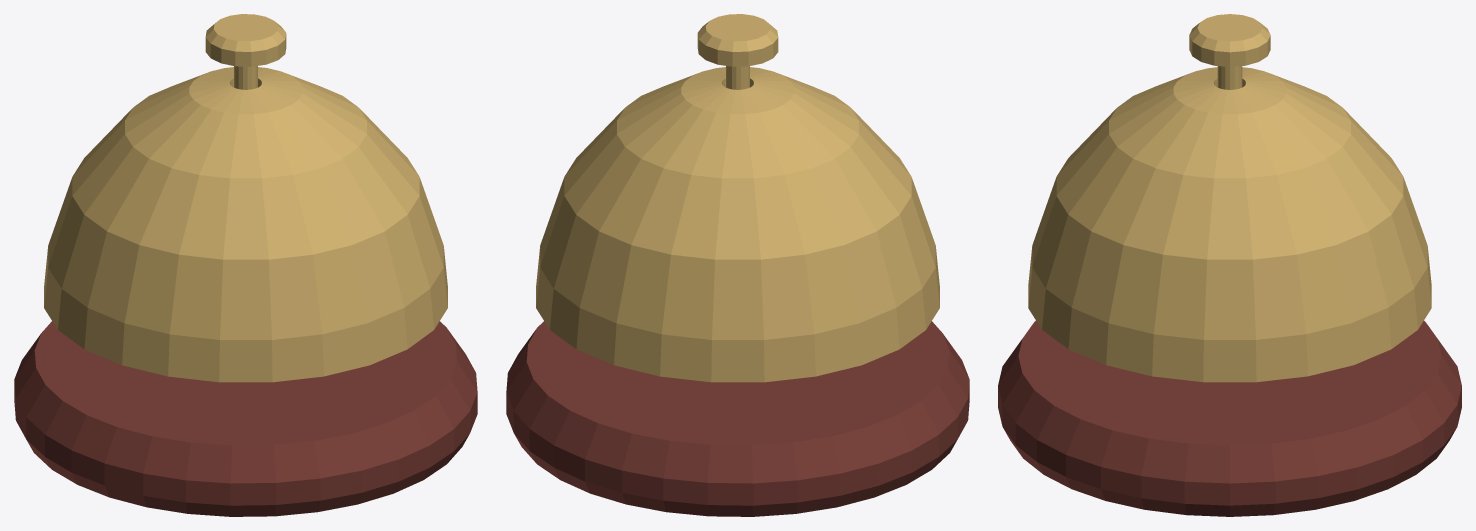
The picture shows the model from 3 angles, left to right: view 1: azimuth 30°, elevation 25°; view 2: azimuth 150°, elevation 25°; view 3: azimuth 270°, elevation 25°; orthographic projection.
Visible parts, largest first — view 1: OpenUndersideDomedBellWithShaftHole, GroundedBevelledServiceBellBase, FixedBaseSeatedShaftAndPressButton; view 2: OpenUndersideDomedBellWithShaftHole, GroundedBevelledServiceBellBase, FixedBaseSeatedShaftAndPressButton; view 3: OpenUndersideDomedBellWithShaftHole, GroundedBevelledServiceBellBase, FixedBaseSeatedShaftAndPressButton.
Boxes of the visible parts, x1,y1,x2,y2 form: OpenUndersideDomedBellWithShaftHole: (44, 67, 447, 382); GroundedBevelledServiceBellBase: (14, 321, 477, 516); FixedBaseSeatedShaftAndPressButton: (205, 14, 286, 89); OpenUndersideDomedBellWithShaftHole: (536, 67, 939, 382); GroundedBevelledServiceBellBase: (506, 321, 969, 516); FixedBaseSeatedShaftAndPressButton: (697, 14, 778, 89); OpenUndersideDomedBellWithShaftHole: (1028, 67, 1431, 382); GroundedBevelledServiceBellBase: (998, 321, 1461, 516); FixedBaseSeatedShaftAndPressButton: (1189, 14, 1270, 89).
Size of the model in its own units: 0.114 by 0.107 by 0.114.
